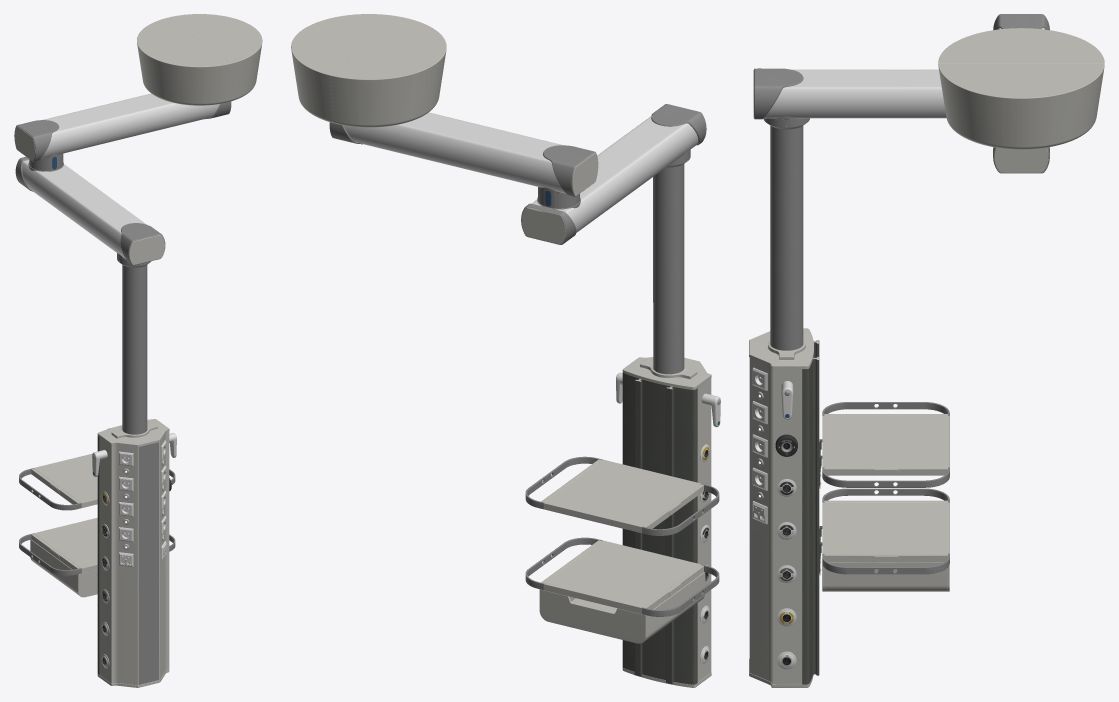
File: arm_articulated_support_a01.glb
3 views of the same model, side by side, from view 1: azimuth 30°, elevation 25°; view 2: azimuth 150°, elevation 25°; view 3: azimuth 270°, elevation 25° (orthographic). The views are drawn at different scales.
Parts seen in each view (by area): view 1: column_01_mesh_00, base_01_mesh_00, arm_01_mesh_00, arm_02_mesh_00, plate_02_mesh_00, plate_01_mesh_00; view 2: column_01_mesh_00, base_01_mesh_00, plate_02_mesh_00, arm_01_mesh_00, arm_02_mesh_00, plate_01_mesh_00; view 3: column_01_mesh_00, base_01_mesh_00, plate_02_mesh_00, plate_01_mesh_00, arm_02_mesh_00, arm_01_mesh_00.
Part boxes in pixels (left/top/right/bottom): column_01_mesh_00: left=97, top=265, right=171, bottom=687; base_01_mesh_00: left=137, top=14, right=262, bottom=105; arm_01_mesh_00: left=14, top=93, right=231, bottom=161; arm_02_mesh_00: left=15, top=153, right=165, bottom=267; plate_02_mesh_00: left=19, top=517, right=175, bottom=597; plate_01_mesh_00: left=19, top=453, right=175, bottom=510; column_01_mesh_00: left=622, top=164, right=711, bottom=687; base_01_mesh_00: left=291, top=14, right=446, bottom=127; plate_02_mesh_00: left=525, top=537, right=719, bottom=643; arm_01_mesh_00: left=329, top=112, right=598, bottom=196; arm_02_mesh_00: left=521, top=104, right=706, bottom=244; plate_01_mesh_00: left=525, top=456, right=719, bottom=535; column_01_mesh_00: left=749, top=126, right=819, bottom=687; base_01_mesh_00: left=938, top=28, right=1104, bottom=149; plate_02_mesh_00: left=819, top=488, right=949, bottom=591; plate_01_mesh_00: left=819, top=402, right=949, bottom=488; arm_02_mesh_00: left=753, top=68, right=946, bottom=129; arm_01_mesh_00: left=993, top=14, right=1049, bottom=173.
Bounding box in the file's own units: 1.39 × 2.62 × 1.2.
12 materials, 11 textured.
